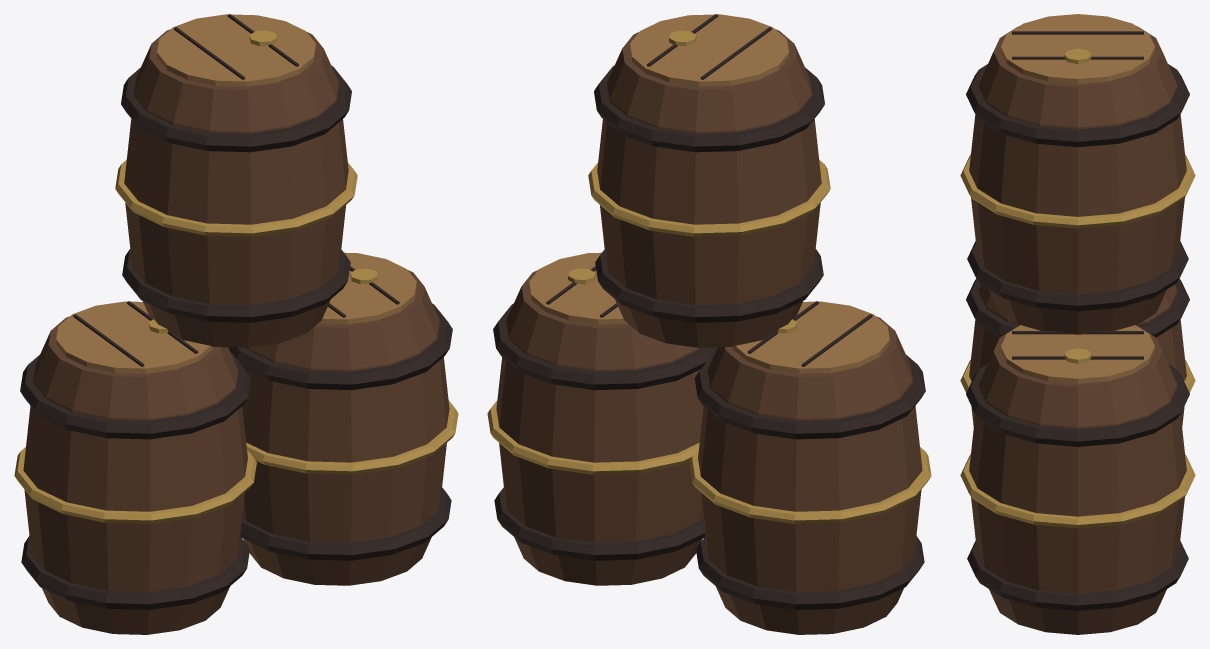
File: PirateCove_BarrelStack_Showcase.glb
3 renders of one model, left to right at view 1: azimuth 30°, elevation 25°; view 2: azimuth 150°, elevation 25°; view 3: azimuth 270°, elevation 25°, orthographic. The views are drawn at different scales.
Parts seen in each view (by area): view 1: PirateCove_BarrelStack_Showcase; view 2: PirateCove_BarrelStack_Showcase; view 3: PirateCove_BarrelStack_Showcase.
Boxes of the visible parts, <box> form: PirateCove_BarrelStack_Showcase: <box>14,14,458,634</box>; PirateCove_BarrelStack_Showcase: <box>487,14,931,634</box>; PirateCove_BarrelStack_Showcase: <box>960,14,1195,634</box>.
Size of the model in its own units: 1.85 by 2.26 by 0.946.
